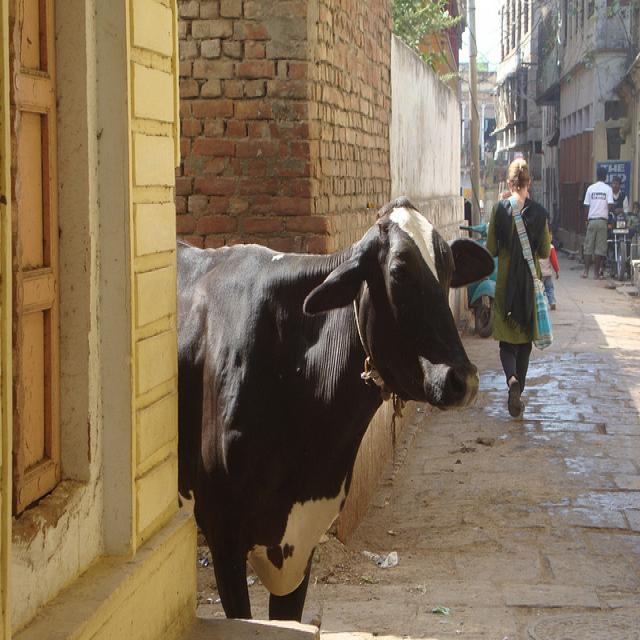motor: (469, 256, 499, 337), (607, 211, 635, 280)
